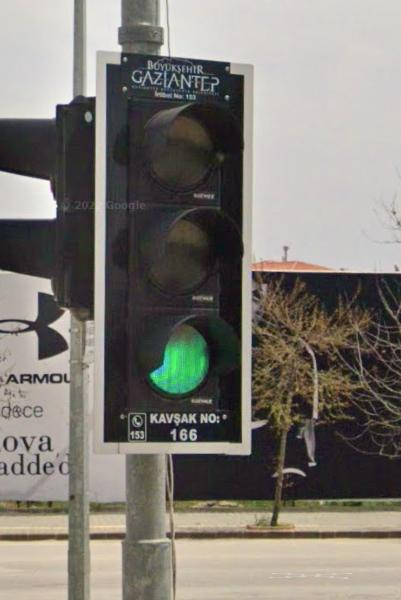greenlight: (104, 63, 249, 427)
